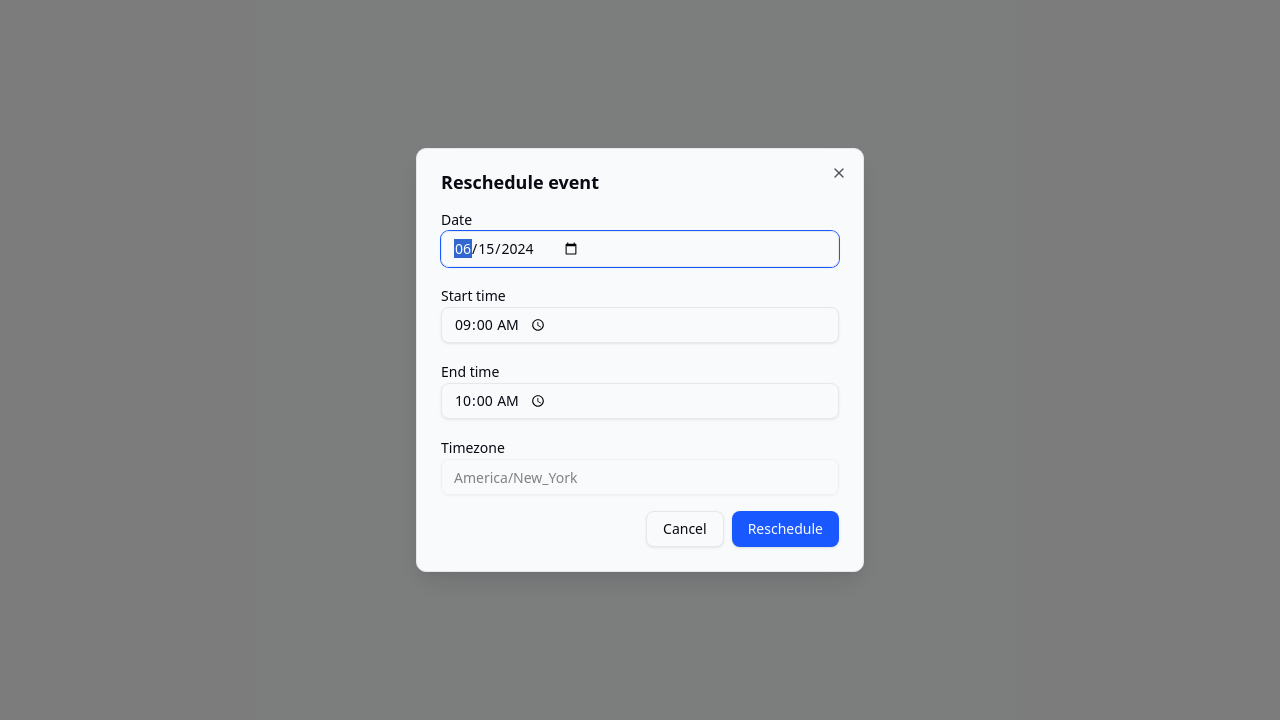
Test case: RescheduleDialog › conflict detection › shows ConflictSurface when the availability check reports a conflict
The image size is (1280, 720).
Click the button with test id "reschedule-submit". click: {"x": 785, "y": 529}
box: x1=732 y1=511 x2=839 y2=547
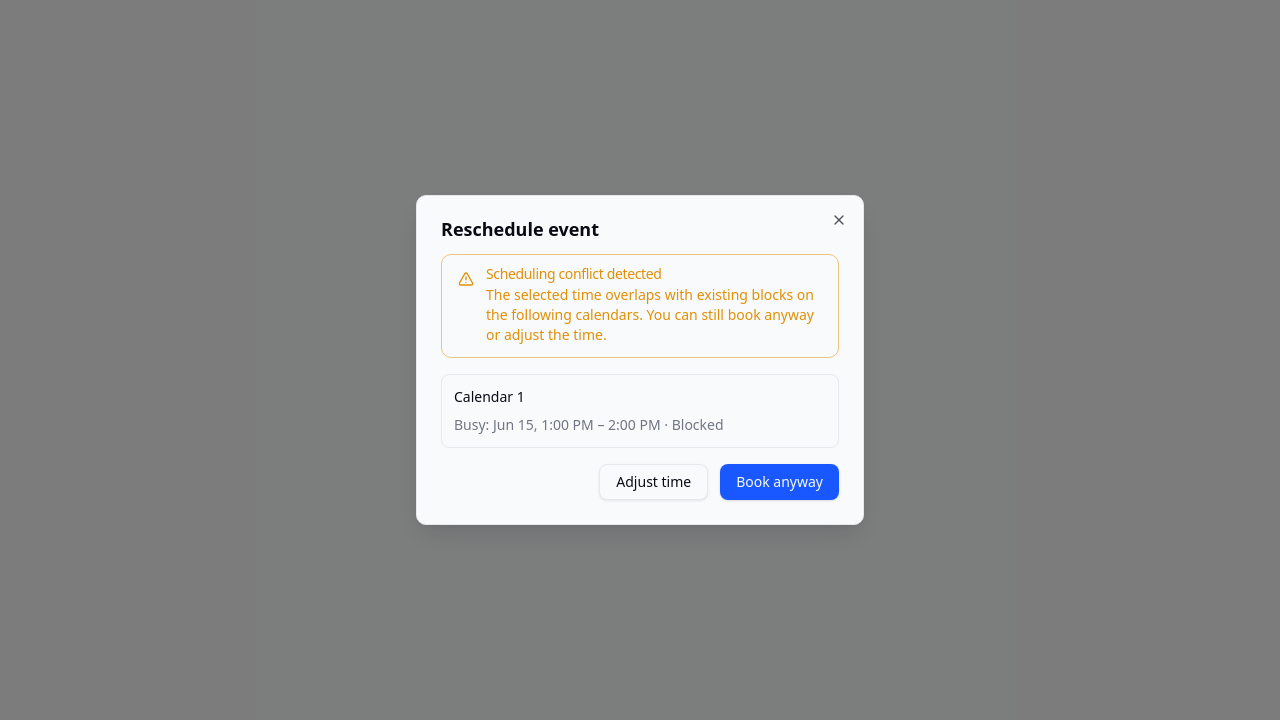
Expected: the element with test id "conflict-surface" is shown, x1=441 y1=254 x2=839 y2=500
